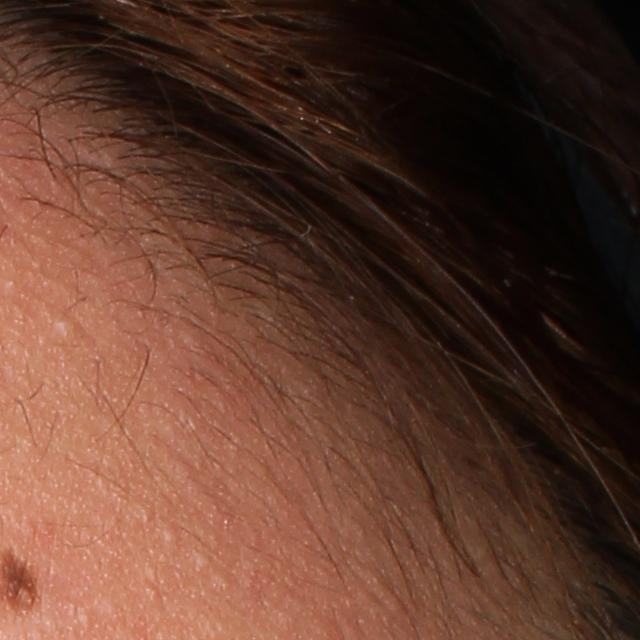comedo: (51, 313, 83, 338), (157, 523, 181, 545), (194, 549, 215, 572)
